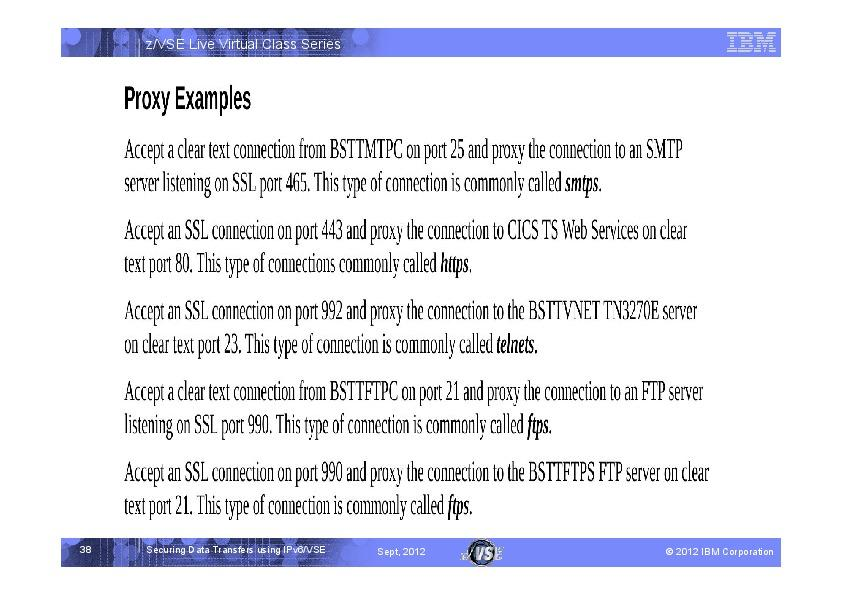paragraph: (117, 132, 746, 525)
subtitle: (119, 72, 263, 123)
title: (132, 30, 352, 57)
